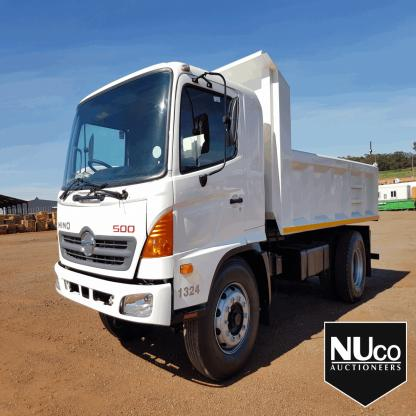dump_truck: (51, 43, 411, 382)
